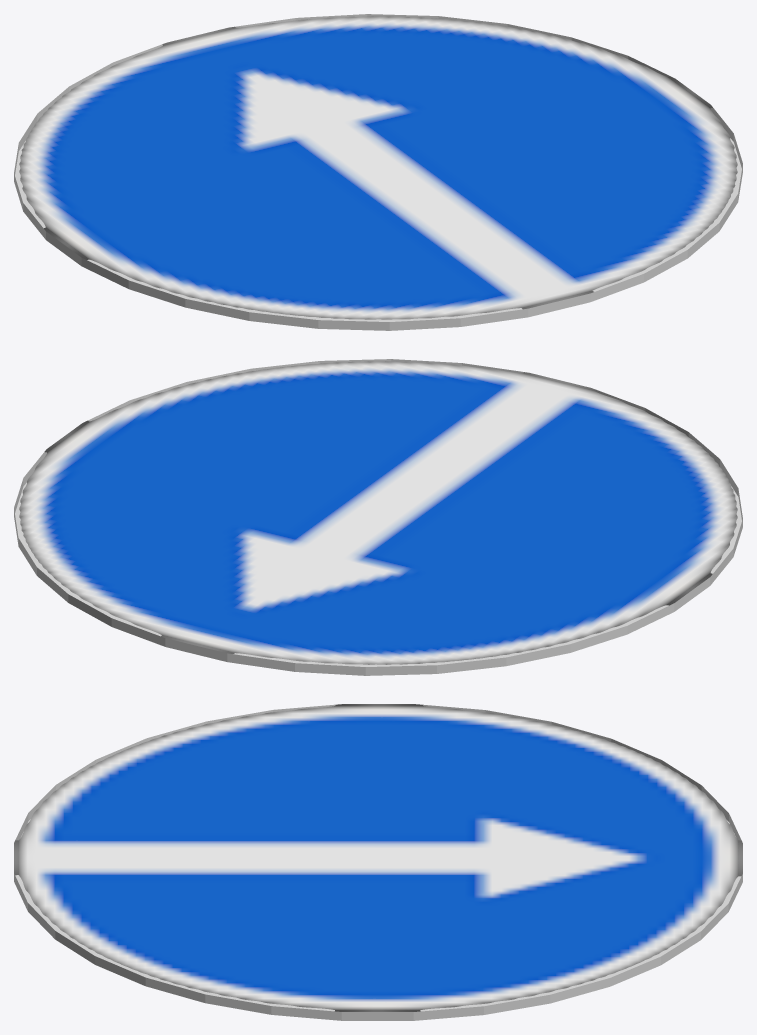
Rendered from forward.dae.
3 views of the same model, one above another, from view 1: azimuth 30°, elevation 25°; view 2: azimuth 150°, elevation 25°; view 3: azimuth 270°, elevation 25° (orthographic).
Visible parts, largest first — view 1: Cylinder; view 2: Cylinder; view 3: Cylinder.
Part boxes in pixels (box(x1,y1,x2,y2)): Cylinder: box(14, 14, 742, 330); Cylinder: box(14, 359, 742, 675); Cylinder: box(14, 704, 742, 1020).
Bounding box in the file's own units: 0.1493 × 0.1493 × 0.002.
Materials: 2 (1 with a texture image).
